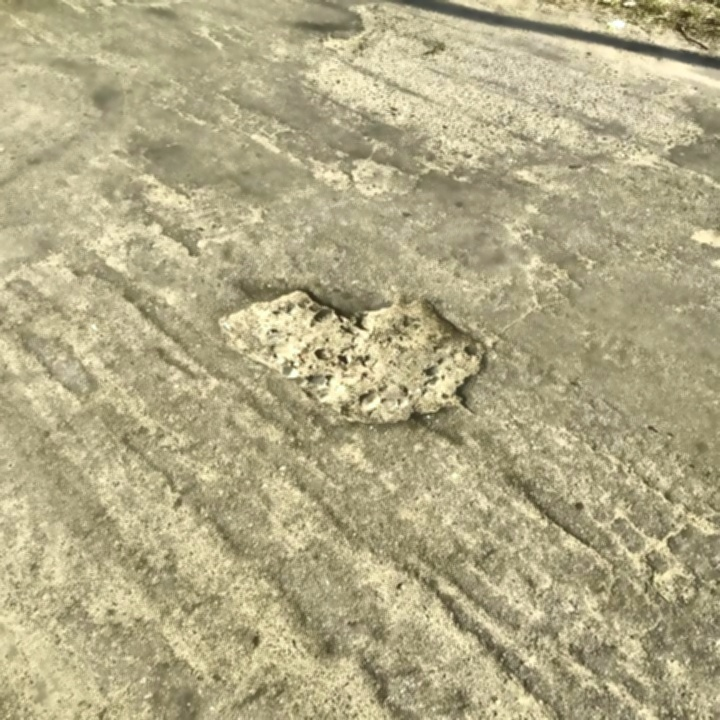pothole: (219, 285, 488, 423)
